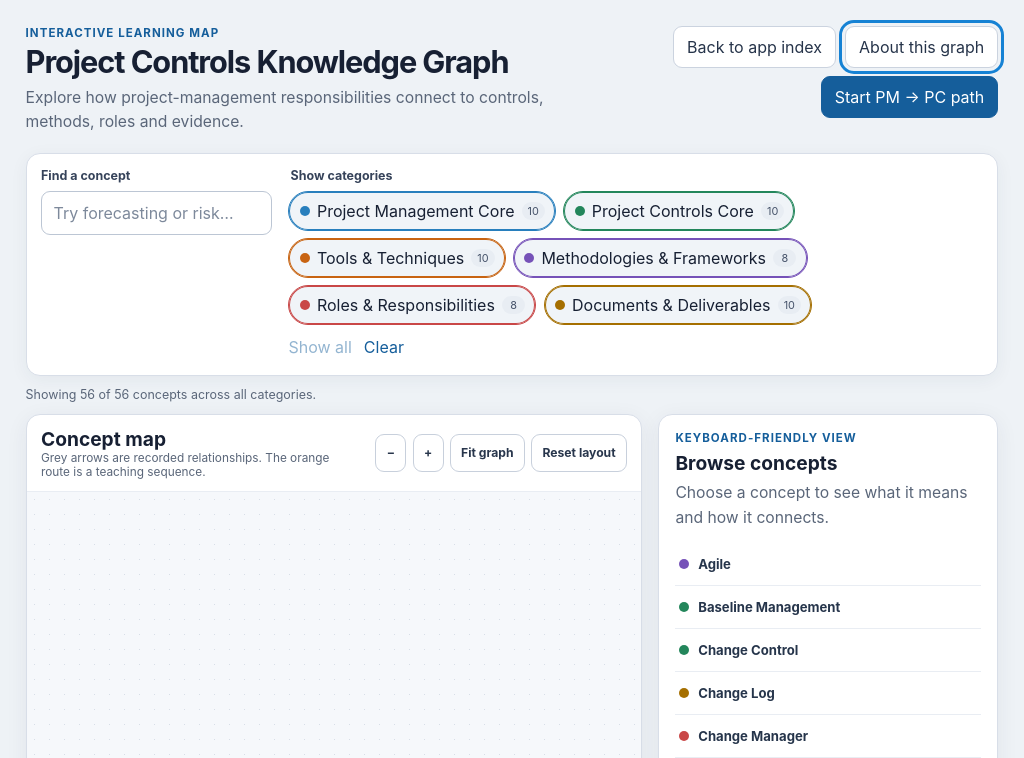
Test: Project Controls Knowledge Graph › uses an accessible About dialog, Escape close and focus return
Click the button "About this graph": x=922, y=47 [845,26,998,68]
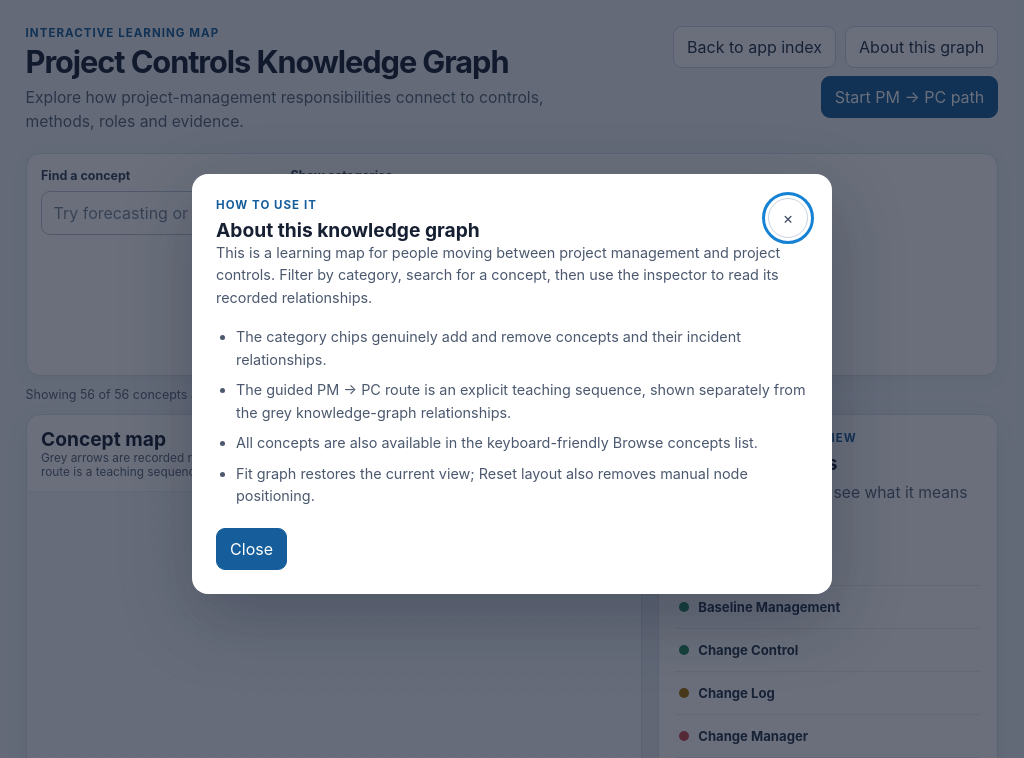
expect the dialog "About this knowledge graph" is shown: met, box [192,174,832,594]
Press Escape
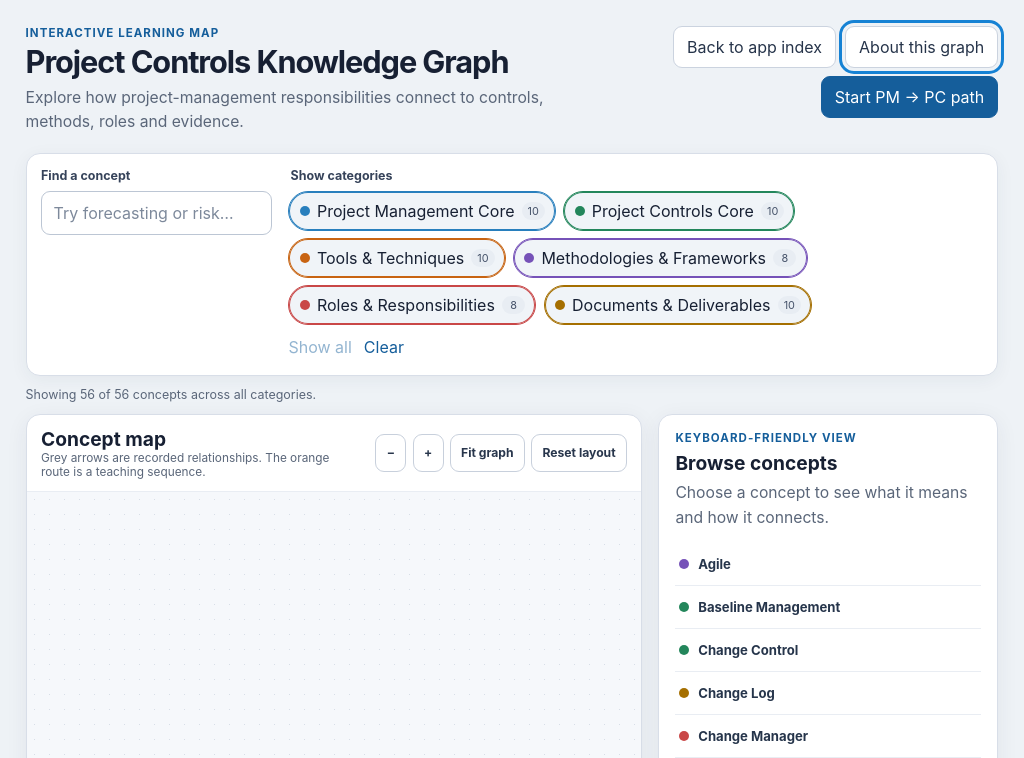
expect the dialog is gone: met
